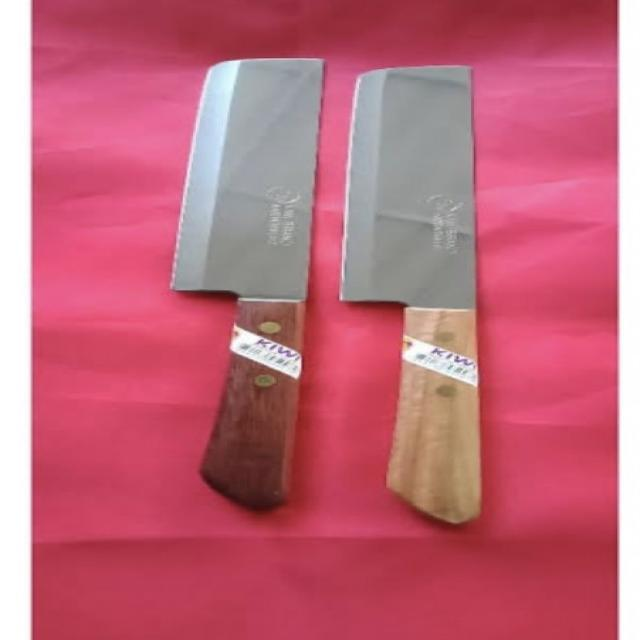Knife: (148, 41, 546, 550)
